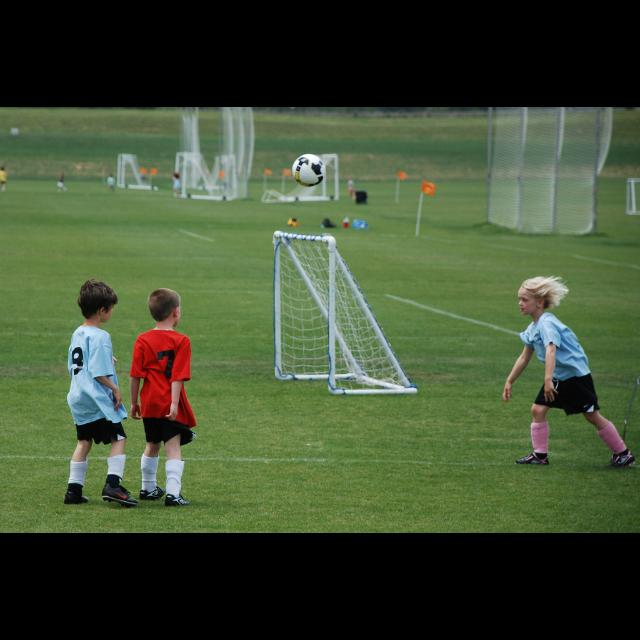Football: (290, 152, 324, 186)
